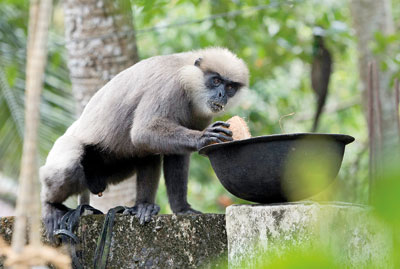Monkey: (67, 38, 251, 151)
